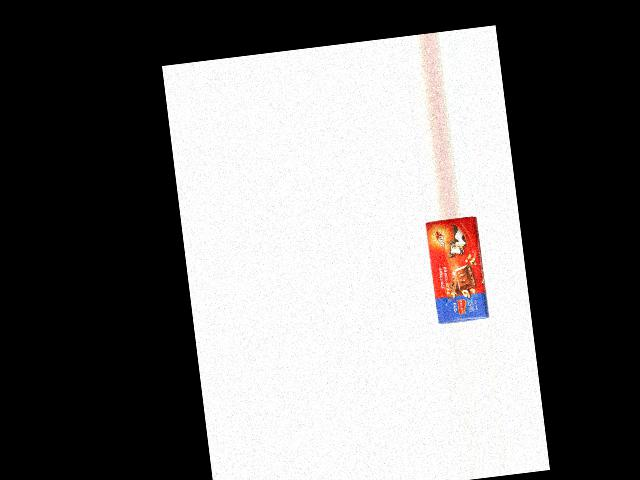chocolate: (426, 215, 493, 323)
